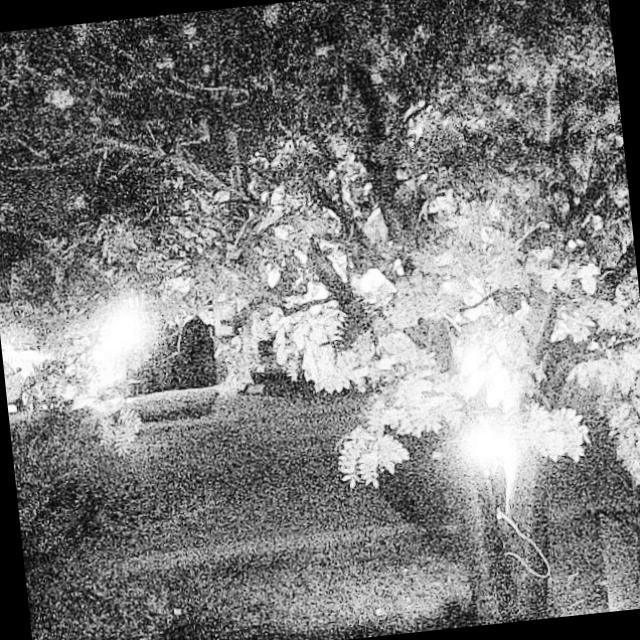Tree: (238, 0, 640, 640)
